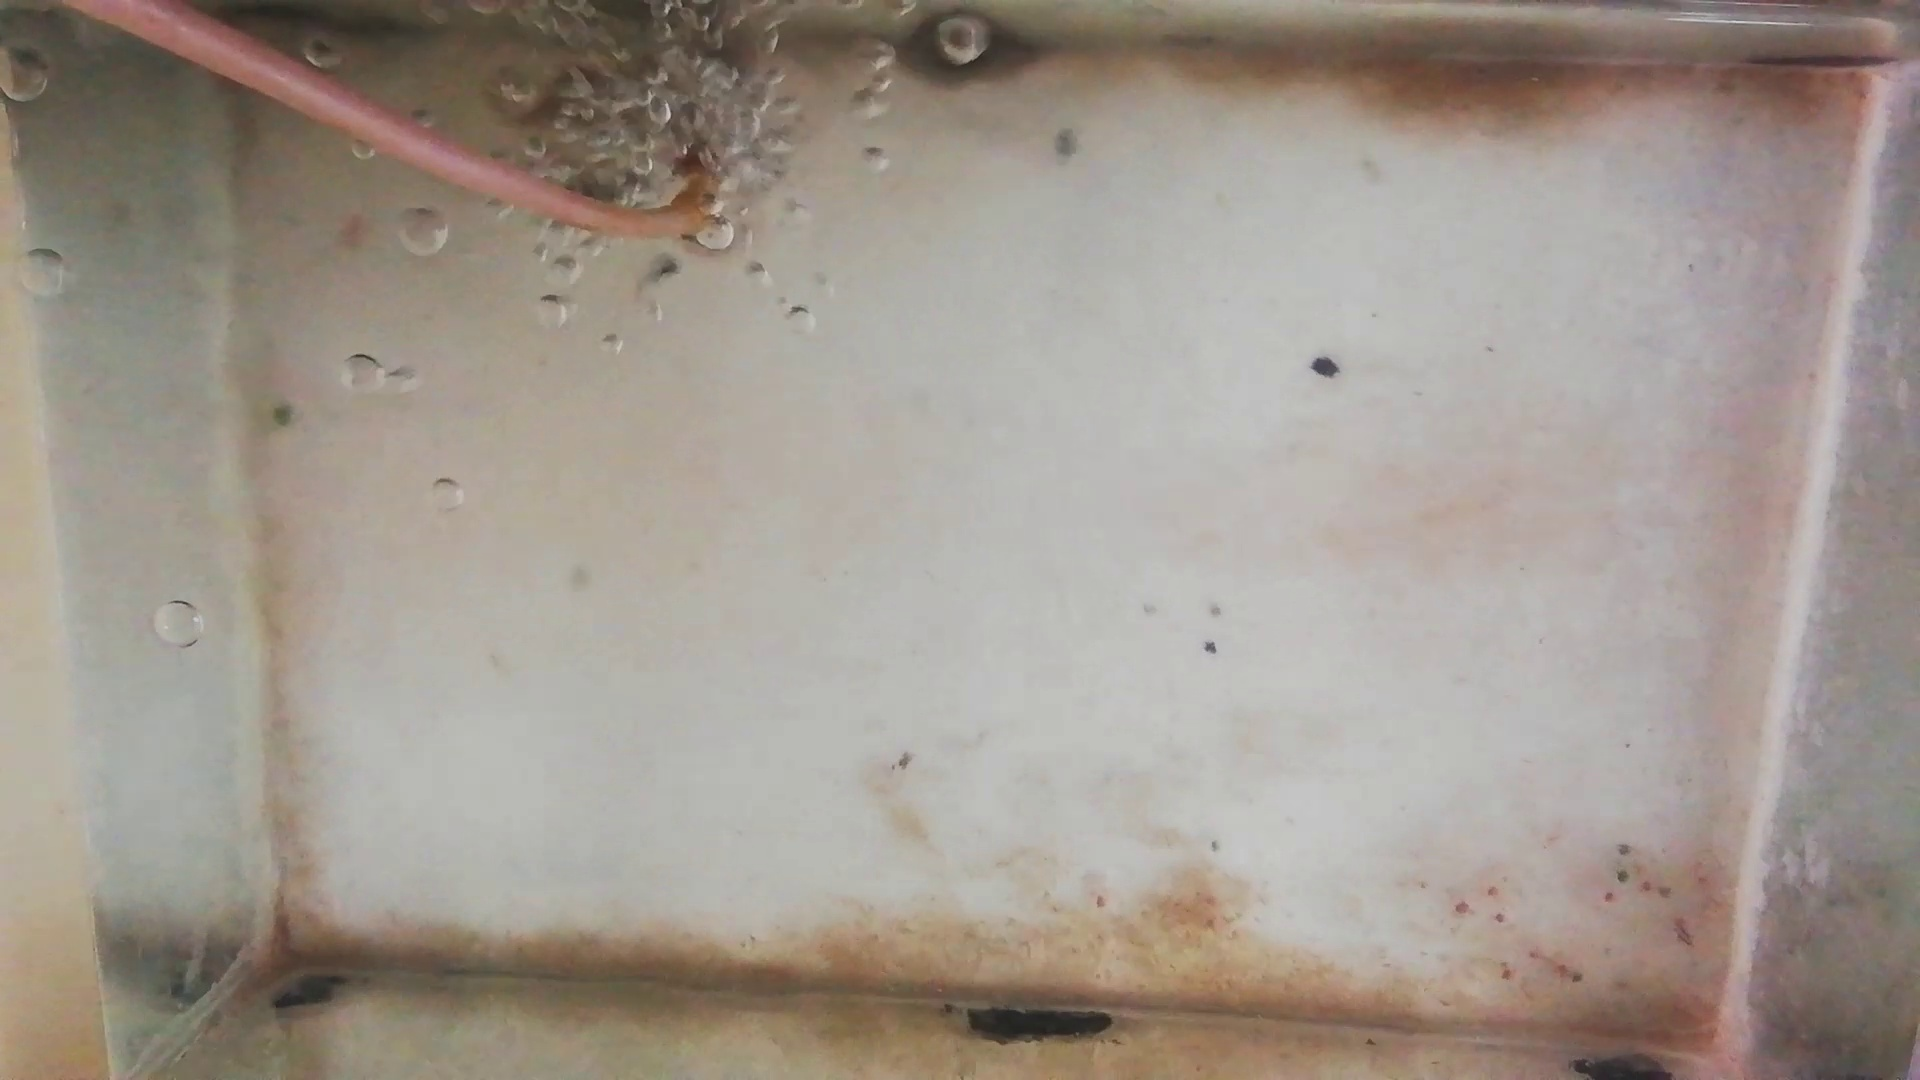fish: (508, 47, 770, 107), (560, 144, 698, 196)
